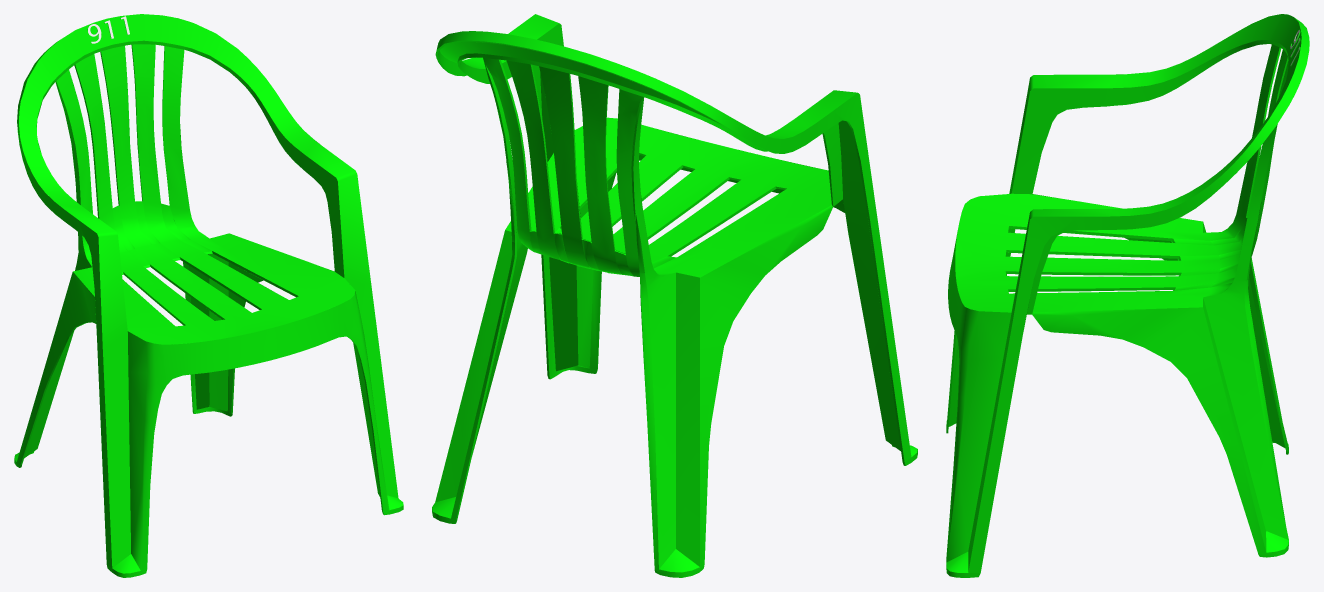
File: plastic-chair-green.glb
3 renders of one model, left to right at view 1: azimuth 30°, elevation 25°; view 2: azimuth 150°, elevation 25°; view 3: azimuth 270°, elevation 25°, orthographic. The views are drawn at different scales.
Visible parts, largest first — view 1: chair_green; view 2: chair_green; view 3: chair_green.
Boxes of the visible parts, <box> form: chair_green: <box>14,14,403,577</box>; chair_green: <box>432,14,917,577</box>; chair_green: <box>946,14,1309,577</box>.
Size of the model in its own units: 0.5826 by 0.7986 by 0.5697.
